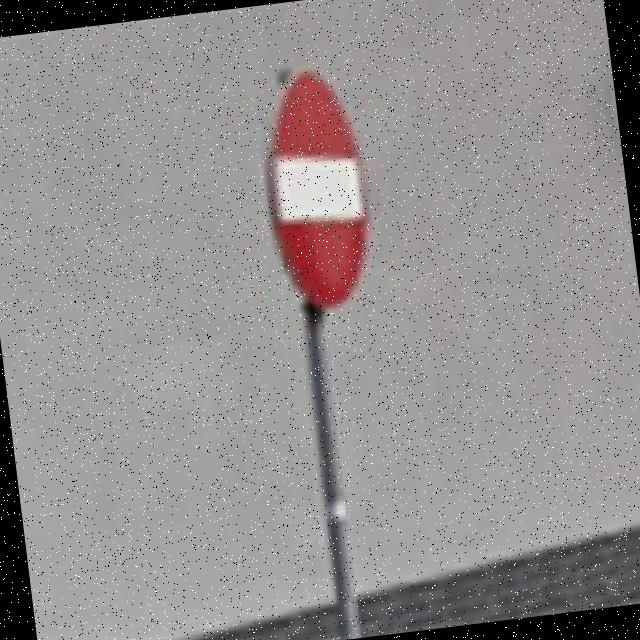Zakaz wjazdu: (252, 61, 380, 316)
